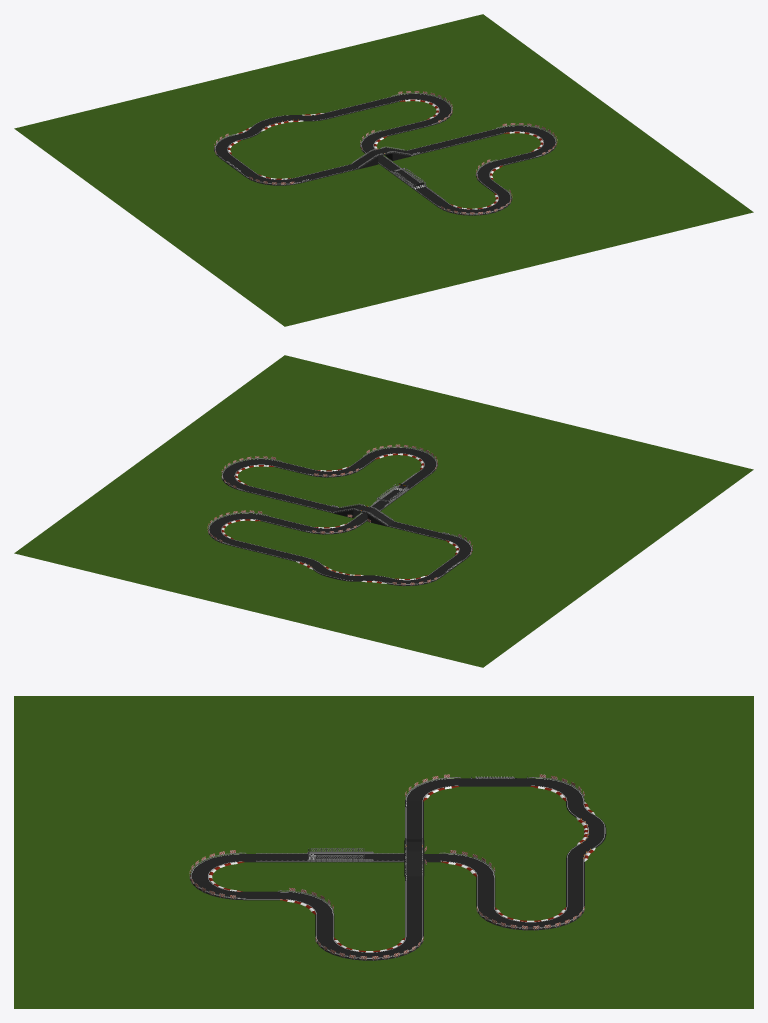
Rendered from track3.obj.
3 renders of one model, top to bottom at view 1: azimuth 30°, elevation 25°; view 2: azimuth 150°, elevation 25°; view 3: azimuth 270°, elevation 25°, orthographic. The views are drawn at different scales.
Parts seen in each view (by area): view 1: Plane, 30Turn.004, 180Turn.001, 180Turn.003, straight.005, 180Turn.002, bridge.001, straight.007; view 2: Plane, 30Turn.004, 180Turn.002, 180Turn.003, 180Turn.001, straight.005, bridge.001, straight.007; view 3: Plane, 30Turn.004, 180Turn.002, 180Turn.001, 180Turn.003, straight.005, straight.007, straight.001, bridge.001, straight.006, 90Turn.003, 90Turn.001 (+4 smaller).
Part boxes in pixels (x1,y1,x2,y2): Plane: (14,14,753,326); 30Turn.004: (235,113,331,140); 180Turn.001: (498,125,556,157); 180Turn.003: (393,93,452,125); straight.005: (407,128,503,155); 180Turn.002: (438,190,511,215); bridge.001: (350,147,413,169); straight.007: (325,96,399,117); Plane: (14,355,753,667); 30Turn.004: (296,556,392,583); 180Turn.002: (364,447,437,473); 180Turn.003: (208,513,266,544); 180Turn.001: (221,459,280,490); straight.005: (241,485,337,512); bridge.001: (332,504,395,526); straight.007: (228,540,302,561); Plane: (14,696,753,1008); 30Turn.004: (566,801,606,861); 180Turn.002: (190,854,244,900); 180Turn.001: (316,937,422,960); 180Turn.003: (477,907,583,930); straight.005: (405,876,423,937); straight.007: (566,861,584,906); straight.001: (316,854,441,862); bridge.001: (404,839,424,876); straight.006: (405,801,423,838); 90Turn.003: (280,891,334,914); 90Turn.001: (441,854,495,876).
Bounding box in the file's own units: 414 × 8.61 × 414.
Materials: 1 (1 with a texture image).
